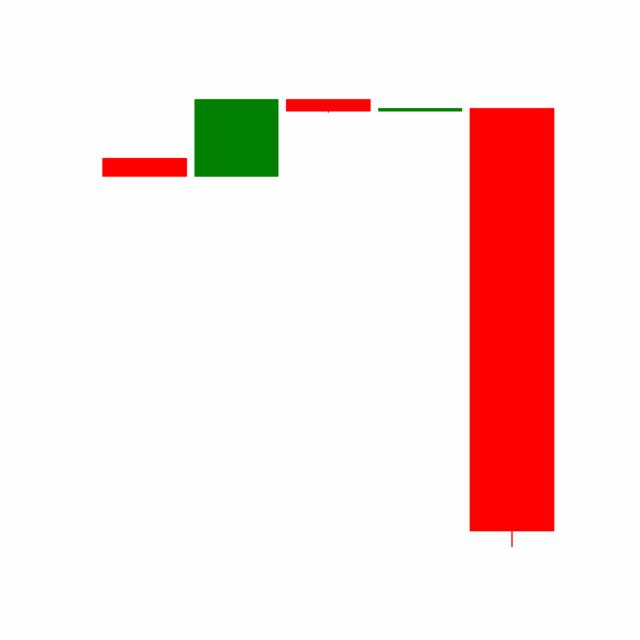Marubozu: (464, 103, 558, 552)
